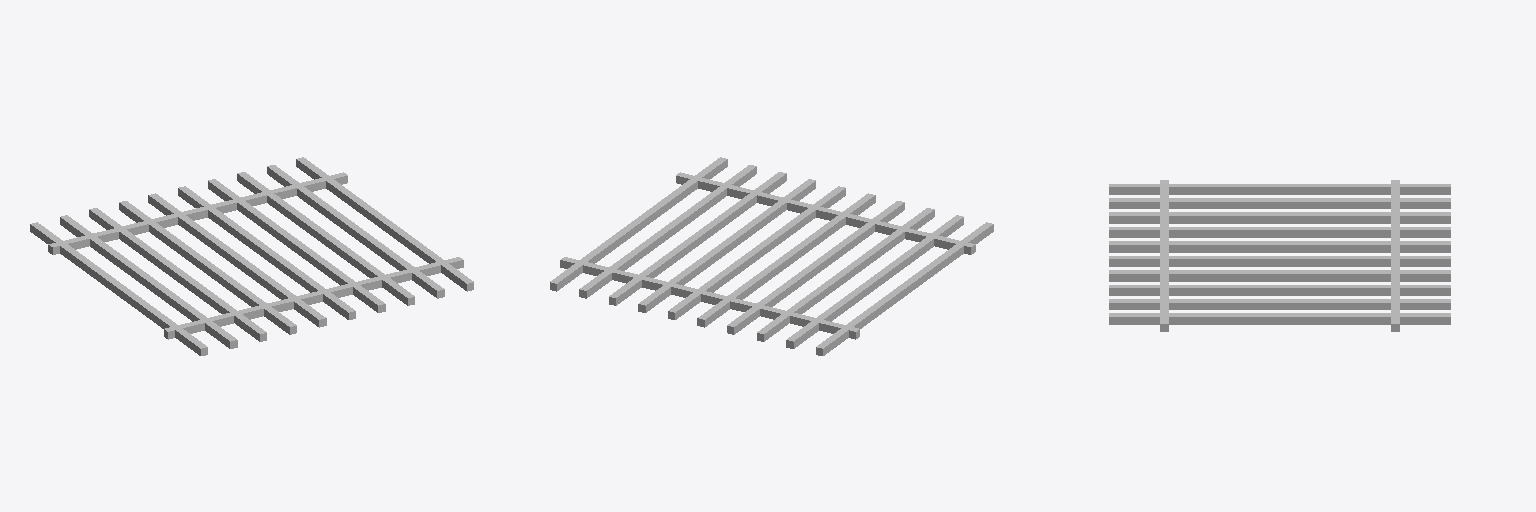
File: Architeture1-13.obj
The picture shows the model from 3 angles: view 1: azimuth 30°, elevation 25°; view 2: azimuth 150°, elevation 25°; view 3: azimuth 270°, elevation 25°; orthographic projection.
Visible parts, largest first — view 1: object 1; view 2: object 1; view 3: object 1.
Boxes of the visible parts, box(x1,y1,x2,y2) form: object 1: box(30, 157, 473, 355); object 1: box(550, 157, 993, 355); object 1: box(1109, 180, 1450, 331).
Bounding box in the file's own units: 4 × 0.1 × 4.